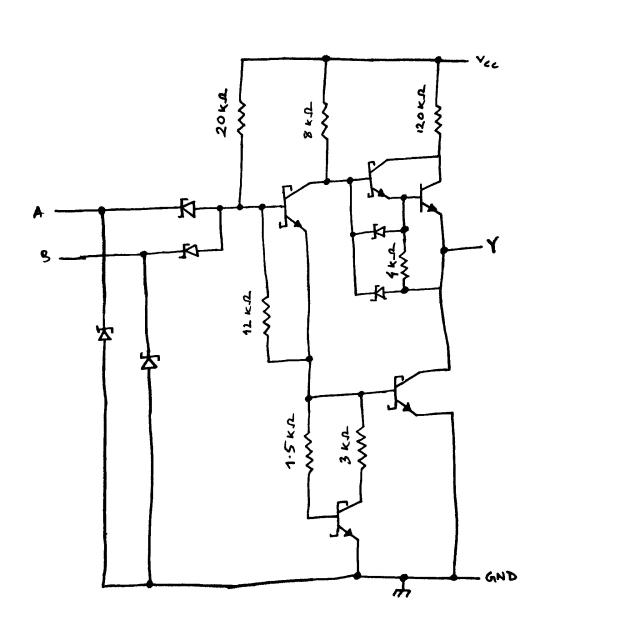capacitor: (369, 283, 387, 302)
crossover: (100, 251, 108, 259)
diode: (137, 352, 162, 372), (178, 198, 197, 220), (94, 324, 116, 343), (178, 242, 200, 259), (371, 222, 387, 240)
ground: (485, 235, 498, 254), (392, 587, 411, 599)
junction: (321, 54, 332, 64), (145, 578, 155, 589), (439, 245, 449, 255), (433, 55, 443, 65), (449, 572, 459, 582), (352, 570, 362, 580), (97, 206, 107, 215), (304, 393, 313, 403), (257, 202, 266, 212), (400, 225, 409, 235), (399, 573, 409, 582), (304, 355, 313, 364), (139, 250, 148, 259), (236, 202, 245, 211), (400, 285, 409, 294), (322, 177, 331, 186), (346, 176, 354, 185), (216, 204, 225, 212), (357, 389, 365, 398), (238, 56, 247, 64), (400, 193, 408, 202), (100, 582, 108, 590), (218, 246, 226, 253), (349, 230, 356, 238), (437, 284, 444, 292), (445, 365, 452, 373), (435, 152, 442, 160), (448, 409, 455, 417), (265, 358, 272, 365), (305, 514, 312, 521), (353, 292, 359, 298)
resistor: (354, 424, 369, 471), (234, 97, 248, 138), (302, 429, 315, 473), (317, 100, 331, 140), (260, 294, 272, 337), (431, 101, 445, 137), (398, 247, 409, 281)
terminal: (463, 57, 472, 65), (55, 255, 64, 262), (52, 207, 60, 214), (478, 243, 484, 252)
text: (282, 412, 297, 470), (214, 88, 229, 138), (415, 83, 428, 135), (241, 290, 253, 336), (338, 425, 351, 465), (386, 242, 399, 280), (302, 100, 314, 139), (485, 570, 518, 584), (476, 54, 500, 69), (39, 250, 51, 263), (32, 206, 44, 219)
transistor: (274, 181, 309, 233), (385, 369, 421, 418), (329, 499, 363, 541), (362, 158, 390, 201), (417, 182, 443, 215)
